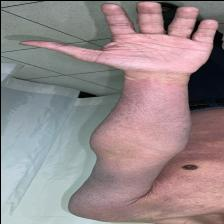Psoriasis vulgaris: (117, 79, 187, 128)
